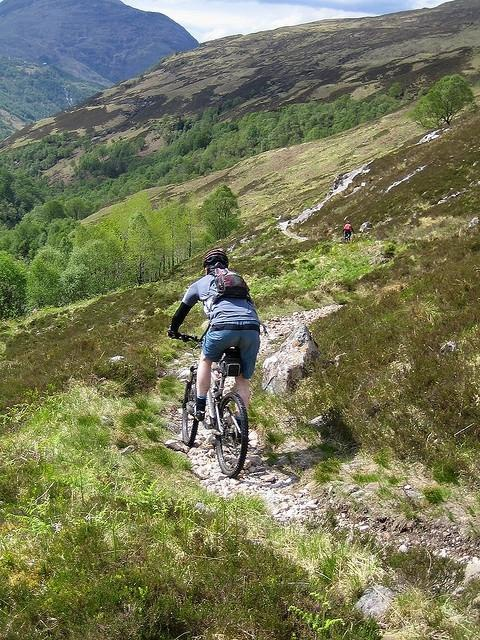non-vehicle: (174, 332, 250, 480), (343, 230, 355, 243)
